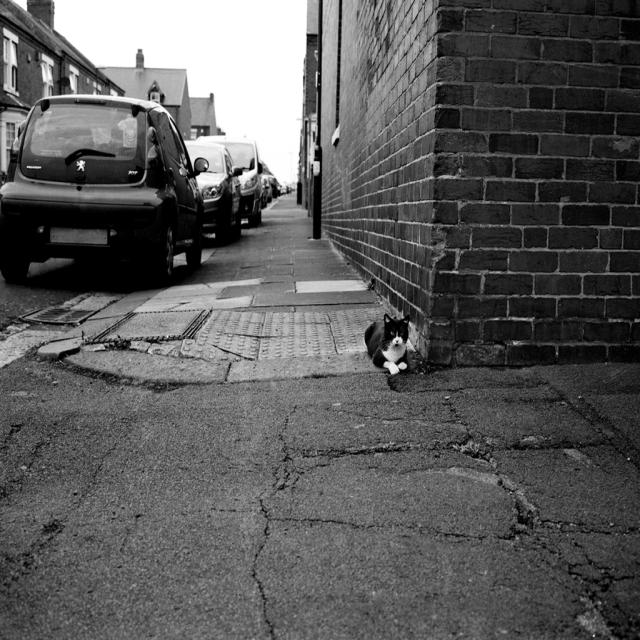car: (4, 78, 219, 272)
